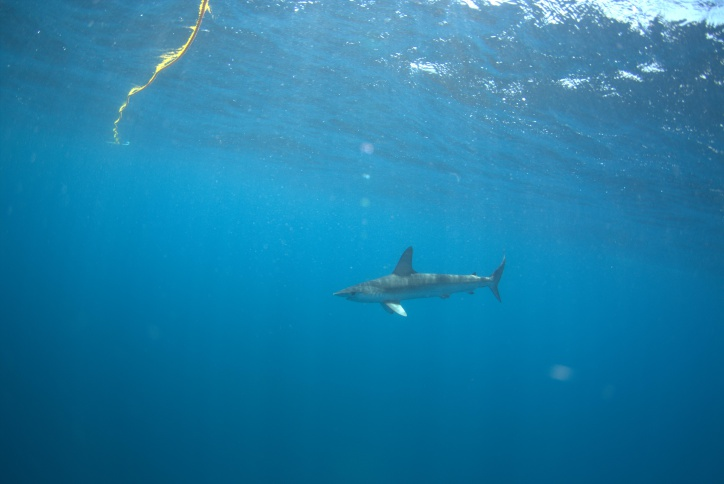Hammer: (1, 187, 458, 400), (310, 237, 516, 335)
